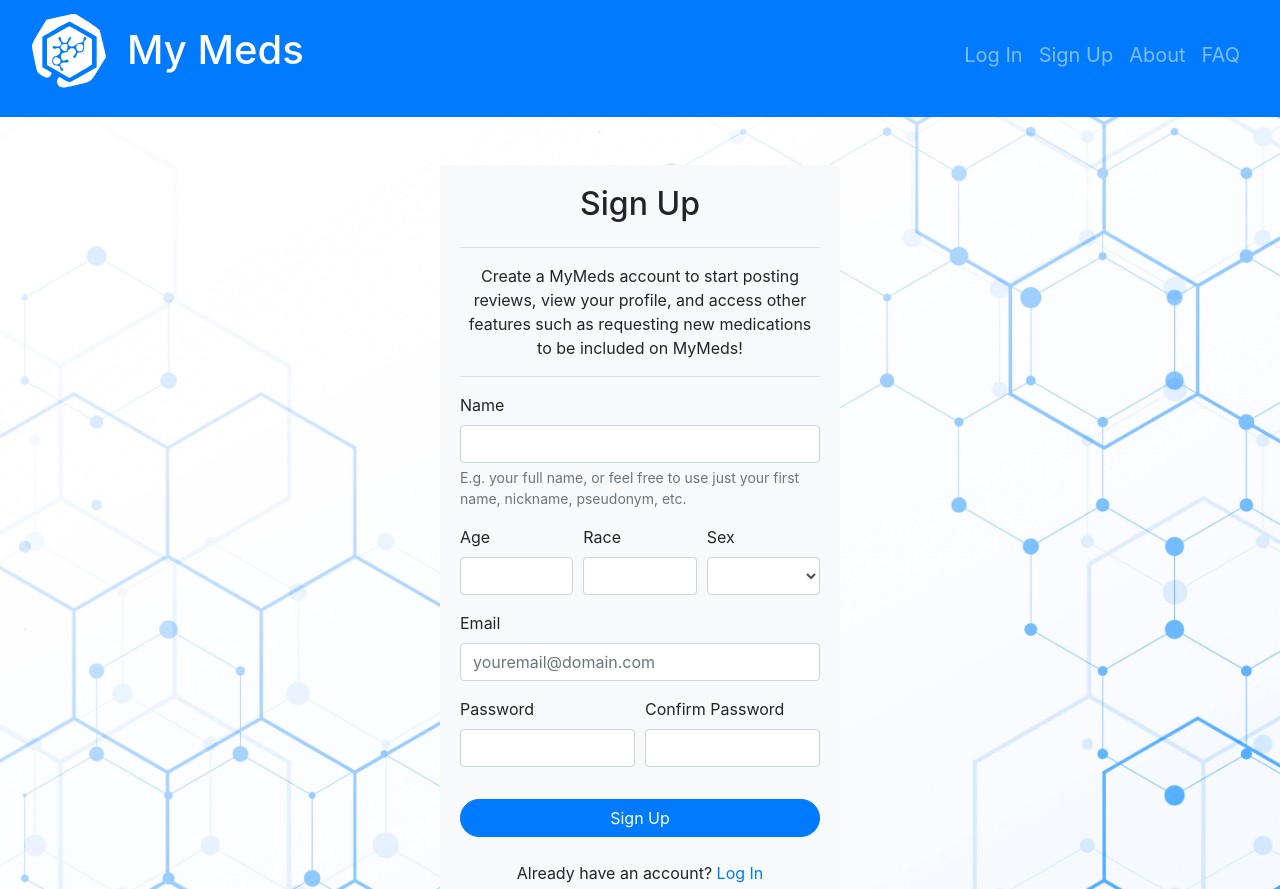
Test: Feedback when email is invalid and button is disabled
In the field with test id "email-input": point(640, 662) [460,643,820,681], type "test"
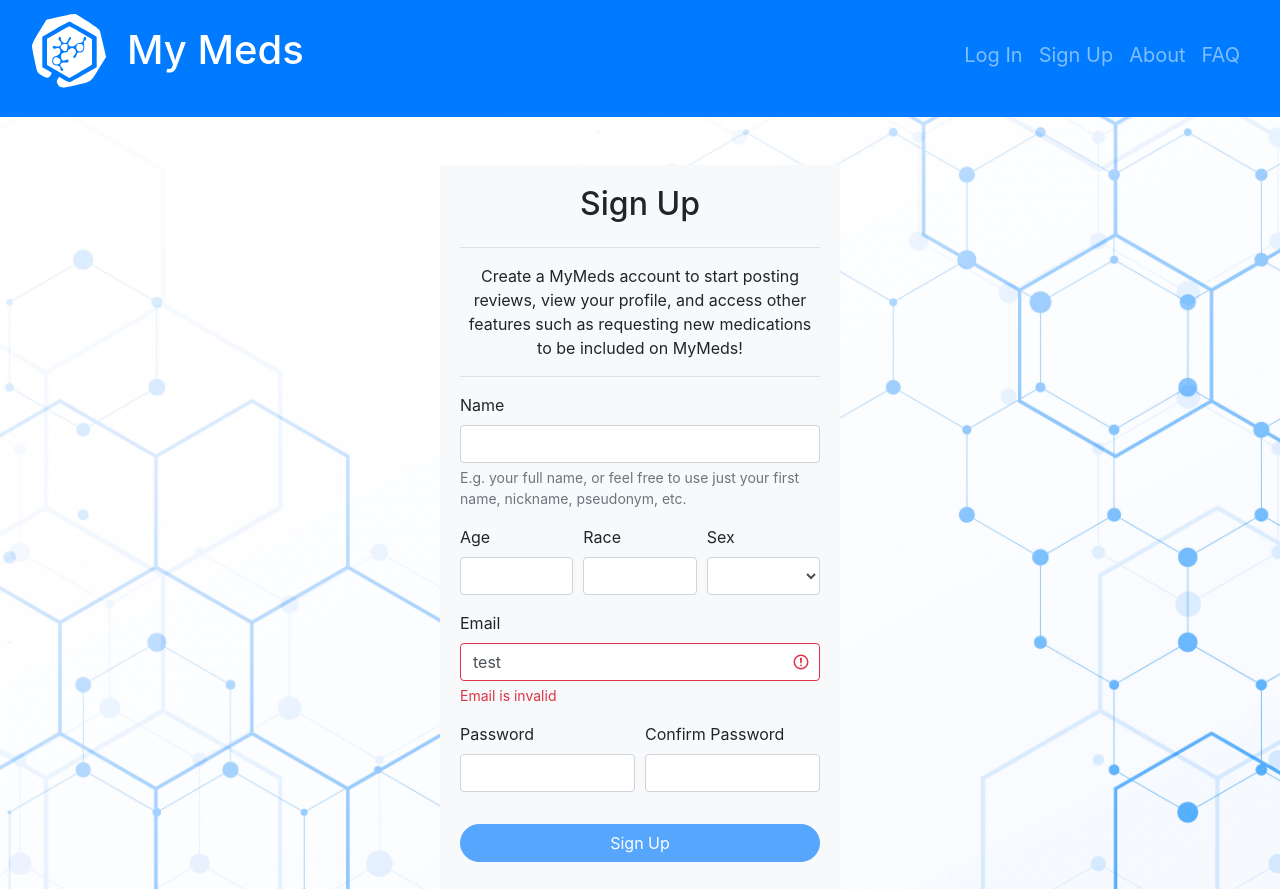
Expected: the text "Email is invalid" is shown, [460,687,556,704]
Expected: the button with test id "button" is disabled, [460,824,820,862]
